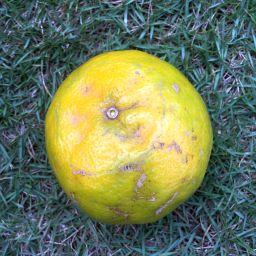Ripe: (44, 55, 205, 215)
